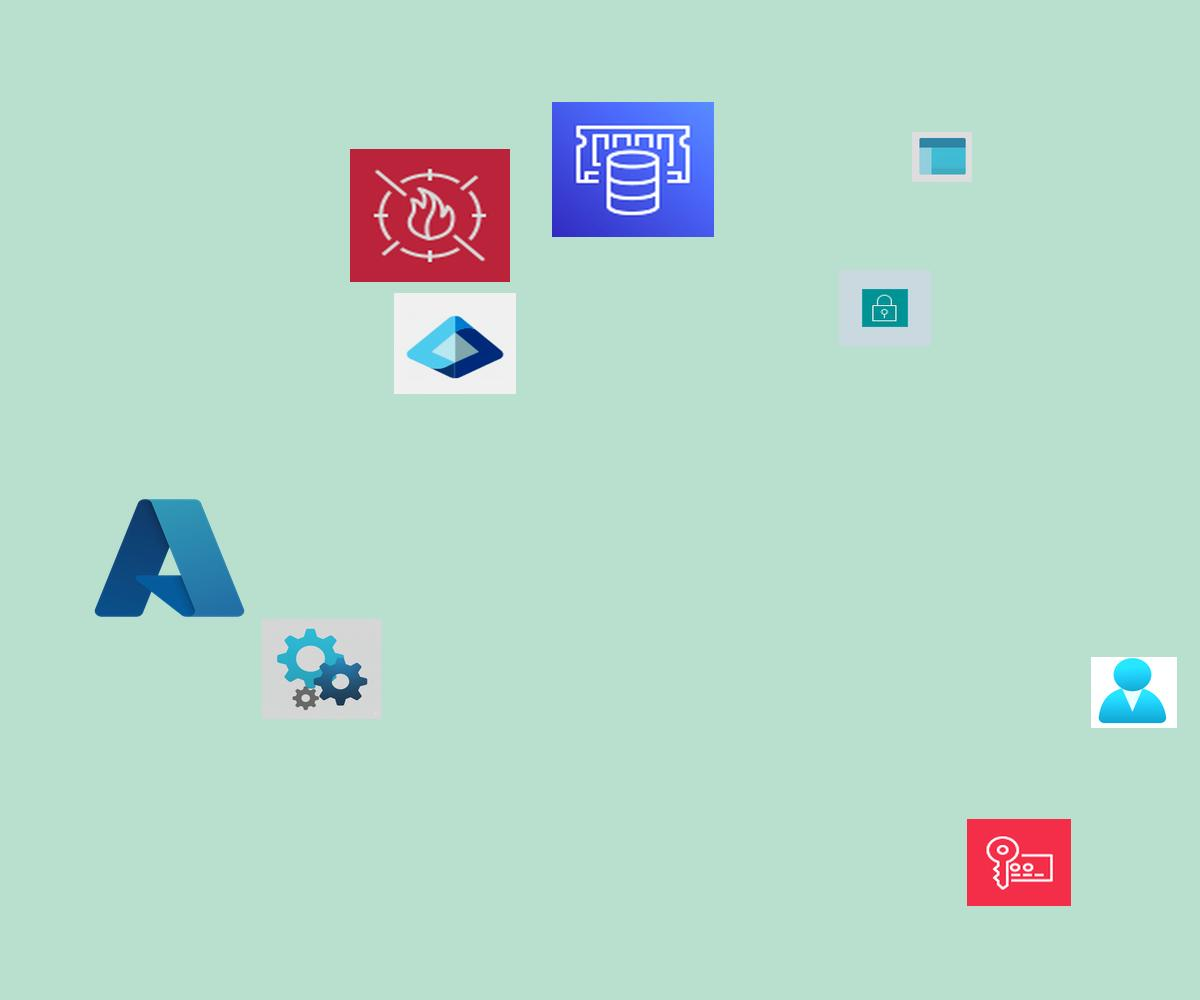AWS-ElastiCache: (552, 102, 714, 237)
AWS-Key-Management-Service: (967, 819, 1071, 906)
AWS-Private-subnet: (839, 270, 931, 346)
AWS-WAF: (350, 149, 510, 282)
Azure_api: (262, 619, 382, 719)
Azure_management-portal: (912, 132, 972, 182)
Azure_microsoft_entra: (394, 293, 516, 394)
Azure_services: (88, 490, 251, 626)
Azure_users: (1091, 657, 1177, 728)
